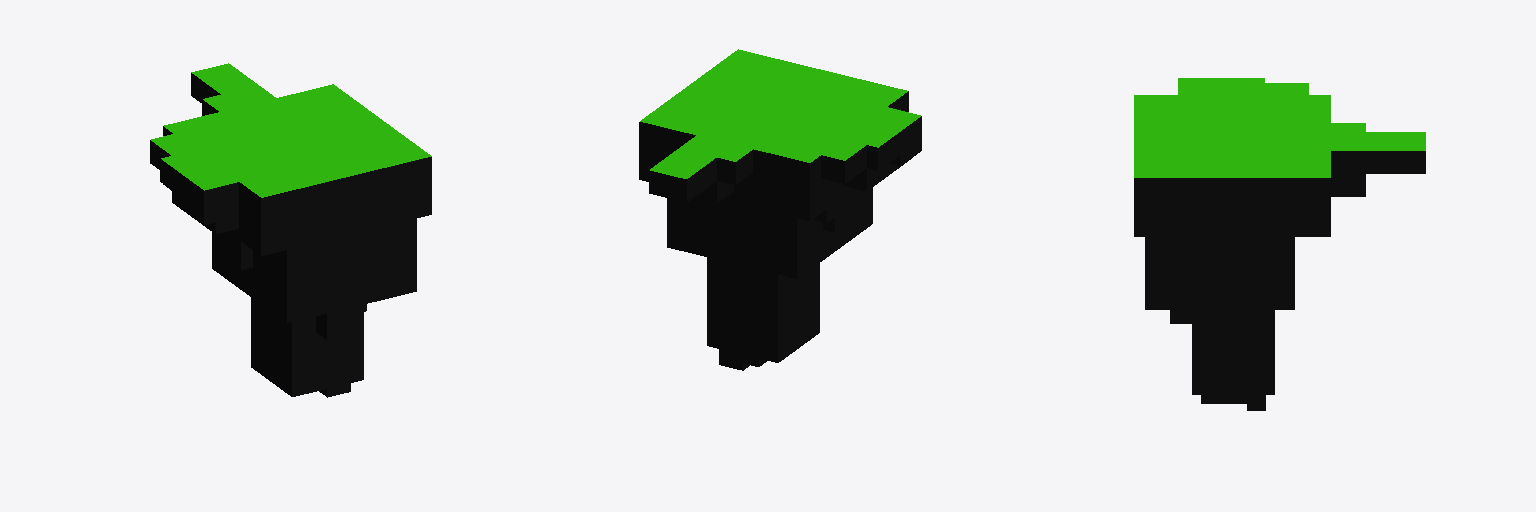
Rendered from floatingIsland1.obj.
3 renders of one model, left to right at view 1: azimuth 30°, elevation 25°; view 2: azimuth 150°, elevation 25°; view 3: azimuth 270°, elevation 25°, orthographic.
Parts seen in each view (by area): view 1: Cube; view 2: Cube; view 3: Cube.
Boxes of the visible parts, x1,y1,x2,y2 form: Cube: [150, 63, 431, 397]; Cube: [639, 49, 921, 370]; Cube: [1134, 78, 1425, 410].
Bounding box in the file's own units: 7.16 × 8.5 × 8.8.